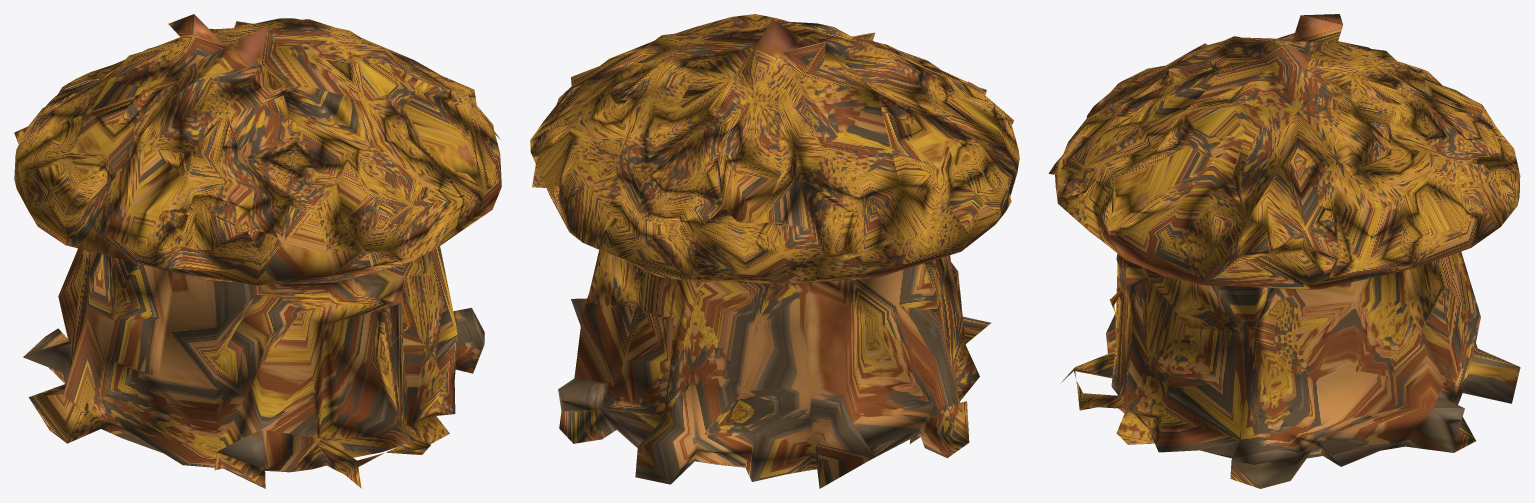
File: h_granary_far.glb
3 views of the same model, side by side, from view 1: azimuth 30°, elevation 25°; view 2: azimuth 150°, elevation 25°; view 3: azimuth 270°, elevation 25° (orthographic). The views are drawn at different scales.
Parts seen in each view (by area): view 1: tripo_node_a3869672-076a-462e-91ef-7326c865aa07; view 2: tripo_node_a3869672-076a-462e-91ef-7326c865aa07; view 3: tripo_node_a3869672-076a-462e-91ef-7326c865aa07.
Boxes of the visible parts, x1=… form: tripo_node_a3869672-076a-462e-91ef-7326c865aa07: x1=14, y1=14, x2=501, y2=488; tripo_node_a3869672-076a-462e-91ef-7326c865aa07: x1=530, y1=14, x2=1019, y2=488; tripo_node_a3869672-076a-462e-91ef-7326c865aa07: x1=1048, y1=14, x2=1520, y2=488.
Bounding box in the file's own units: 0.9548 × 0.8065 × 0.9743.
Materials: 1 (1 with a texture image).
